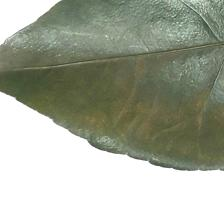healthy: (0, 0, 223, 171)
